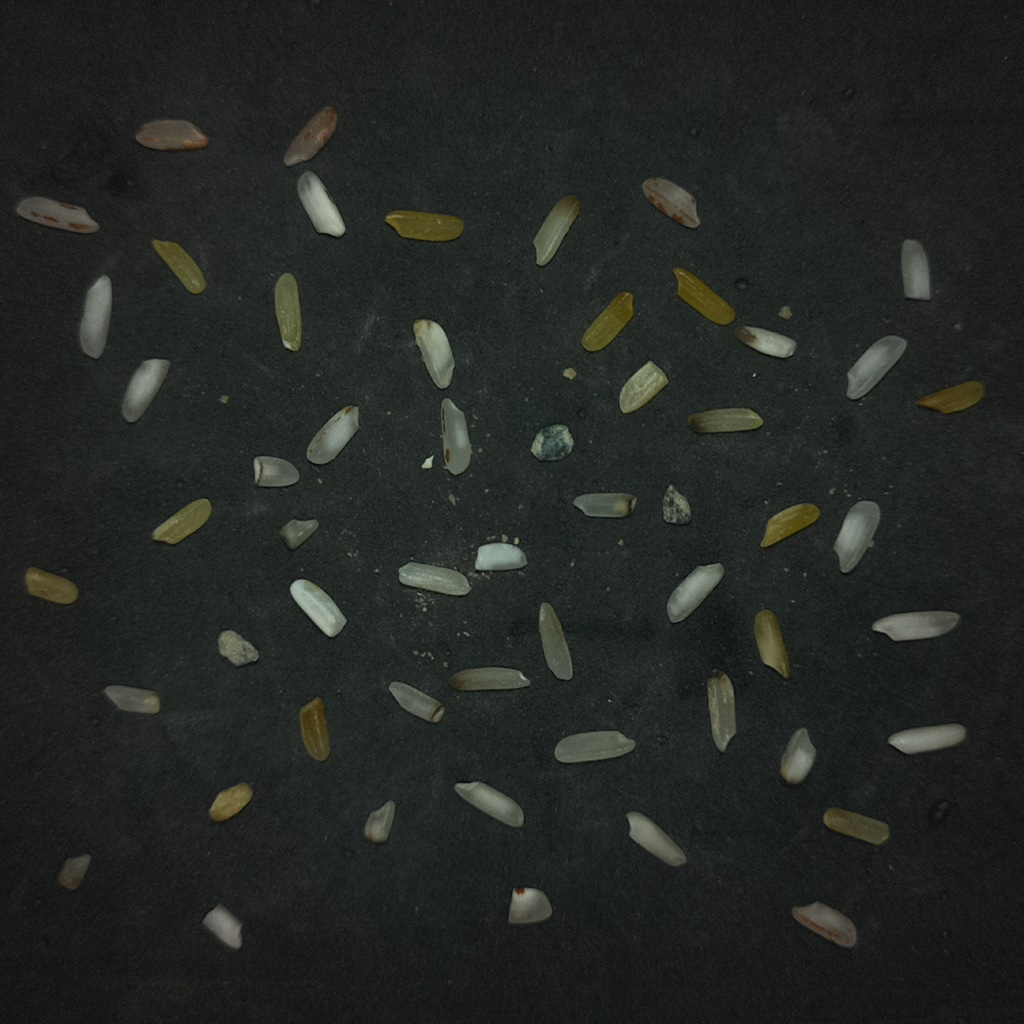broken: (619, 361, 667, 413), (901, 239, 931, 300), (508, 887, 552, 924), (364, 800, 396, 844)
chalky: (289, 578, 346, 637), (666, 563, 723, 621), (834, 500, 879, 573), (626, 811, 685, 866), (296, 171, 345, 236), (454, 782, 524, 826), (121, 358, 169, 422), (414, 319, 454, 389), (79, 275, 111, 358), (872, 610, 960, 640), (887, 723, 965, 754), (203, 905, 240, 948), (474, 542, 526, 570)
damaged: (707, 671, 735, 752), (388, 682, 443, 723), (780, 727, 817, 785), (688, 407, 762, 433), (450, 667, 529, 691), (735, 326, 796, 357), (104, 684, 159, 713), (573, 492, 636, 517), (253, 456, 298, 487), (280, 519, 318, 549)
discolored: (672, 267, 735, 325), (534, 195, 579, 266), (582, 292, 633, 351), (151, 239, 204, 293), (151, 499, 211, 544), (760, 503, 819, 547), (754, 609, 790, 678), (823, 807, 889, 844), (385, 210, 463, 241), (916, 380, 984, 413), (275, 272, 301, 350), (24, 567, 78, 604), (300, 697, 329, 761), (209, 782, 252, 821), (57, 854, 90, 890)
foreign: (530, 424, 573, 460), (218, 630, 259, 666), (662, 484, 691, 524)
red: (283, 106, 338, 166), (15, 196, 98, 233), (306, 405, 358, 464), (792, 901, 856, 947), (642, 178, 699, 227), (441, 398, 471, 474), (135, 119, 208, 150)
whole: (847, 336, 906, 399), (554, 730, 634, 763), (538, 602, 572, 679), (398, 562, 469, 595)
